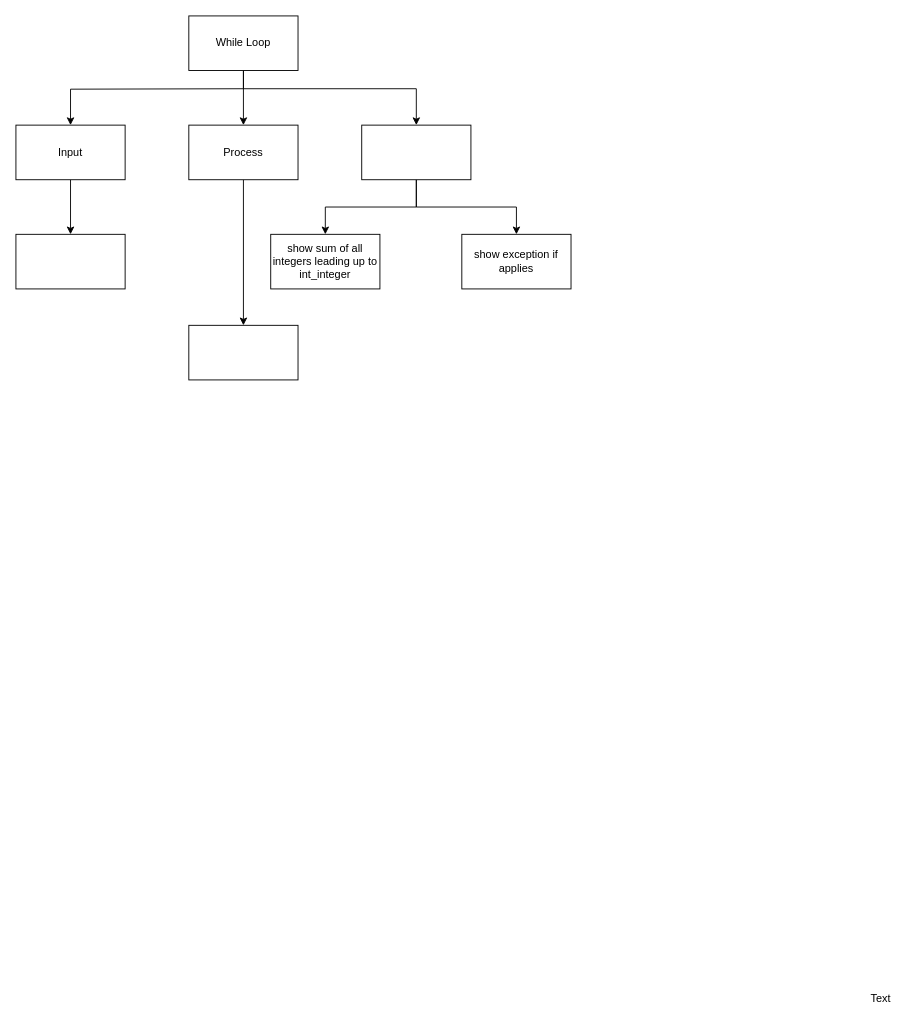
Some shapes in this 915 by 1024 pixel diagram are drawn without their labels. The centre of each missing label's shape, as x and y in pixels:
"check if int_intger is equal to loop counter" goes at point 243,352.
"get string_integer" goes at point 70,261.
"Output" goes at point 416,152.
